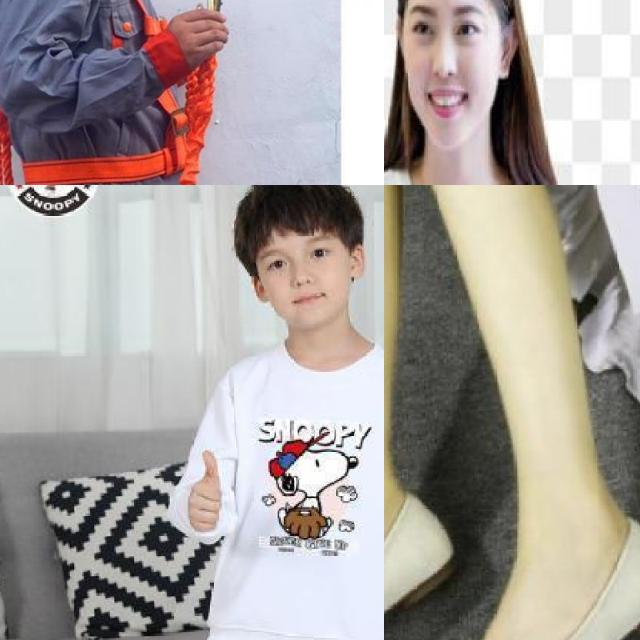Harness: (0, 0, 210, 185)
No_Ear-Protection: (492, 13, 525, 81), (348, 242, 368, 286)
No_Glasses: (404, 0, 486, 49), (296, 228, 335, 270), (257, 246, 294, 286)
Sandals: (404, 453, 640, 640)
face_nomask: (399, 0, 522, 155), (256, 229, 350, 326)
hand_noglove: (185, 449, 221, 533)
head_nohelmet: (214, 185, 359, 247)
person: (177, 185, 384, 640), (384, 0, 640, 185)
